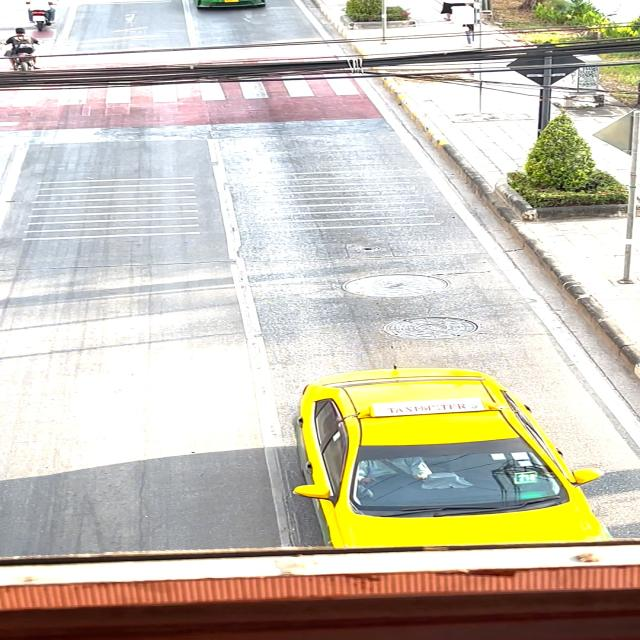car: (267, 339, 632, 554)
